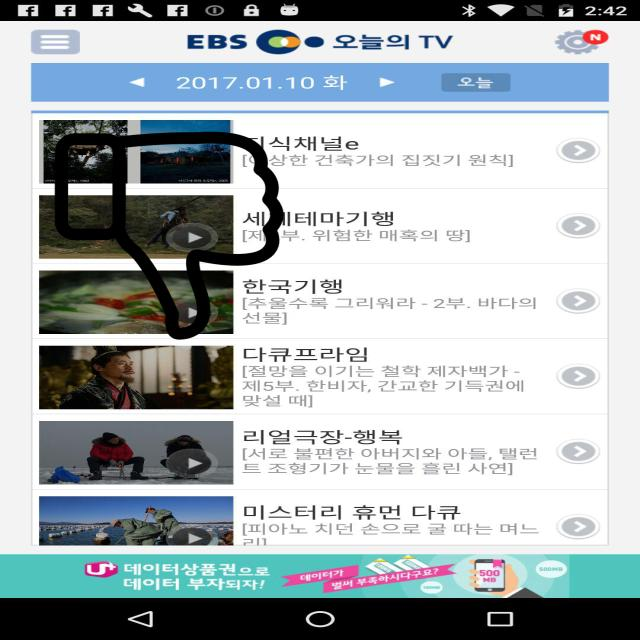obstruction: (51, 132, 287, 340)
